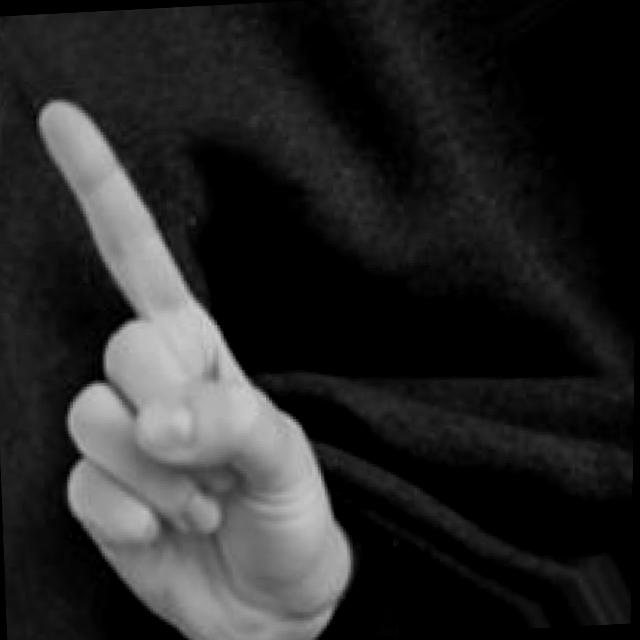I: (21, 76, 381, 640)
